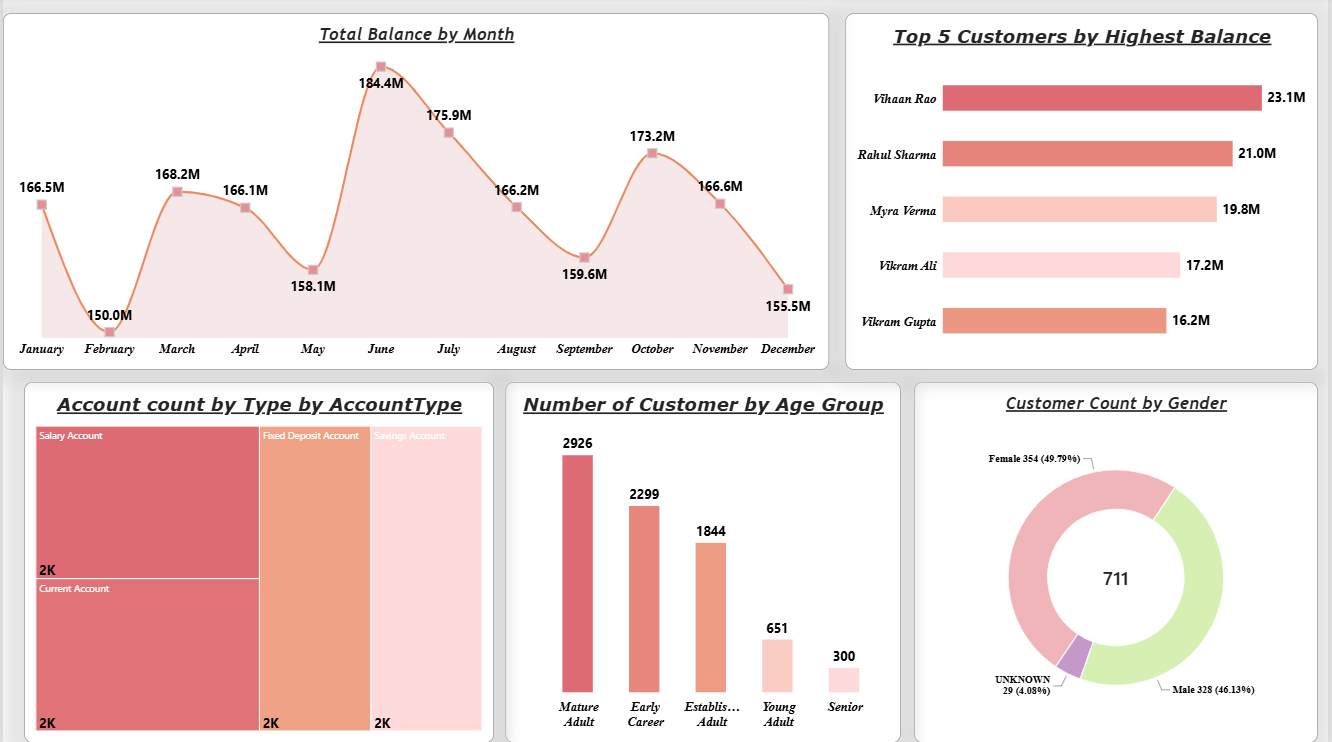

The page's visual inventory and layout, read from the dashboard file:
{"tool":"powerbi","page":{"name":"Page 2","canvas":[1920,1080],"ordinal":1},"visuals":[{"type":"donutChart","title":"Customer Count by Gender","fields":{"Category":["Bank_Account.Gender"],"Y":["Measures Table.Customer Count by Gender"]},"box":[1320,558,584,522],"z":0},{"type":"columnChart","title":"Number of Customer by Age Group","fields":{"Category":["Bank_Account.Age Group Name"],"Y":["CountNonNull(Bank_Account.CustomerID)"]},"box":[728,558,572,522],"z":1000},{"type":"treemap","fields":{"Group":["Bank_Account.AccountType"],"Values":["Measures Table.Account count by Type"]},"box":[30,558,680,522],"z":2000},{"type":"barChart","title":"Top 5 Customers by Highest Balance","fields":{"Category":["Bank_Account.CustomerName"],"Y":["Sum(Bank_Account.CurrentBalance)"]},"box":[1220,24,684,516],"z":3000},{"type":"areaChart","fields":{"Category":["Bank_Account.TransactionDate.Variation.Date Hierarchy.Month"],"Y":["Measures Table.Total Balance"]},"box":[0,24,1196,516],"z":4000}]}

Visuals, with their boxes in screenshot pixels (x1, y1, x2, y2), scaled from the page's 1920x1080 canvas onto the 1332x742 screenshot:
"Customer Count by Gender" donutChart: bbox=[916, 383, 1321, 741]
"Number of Customer by Age Group" columnChart: bbox=[505, 383, 902, 741]
treemap - Bank_Account.AccountType x Measures Table.Account count by Type: bbox=[21, 383, 493, 741]
"Top 5 Customers by Highest Balance" barChart: bbox=[846, 16, 1321, 371]
areaChart - Bank_Account.TransactionDate.Variation.Date Hierarchy.Month x Measures Table.Total Balance: bbox=[0, 16, 830, 371]
